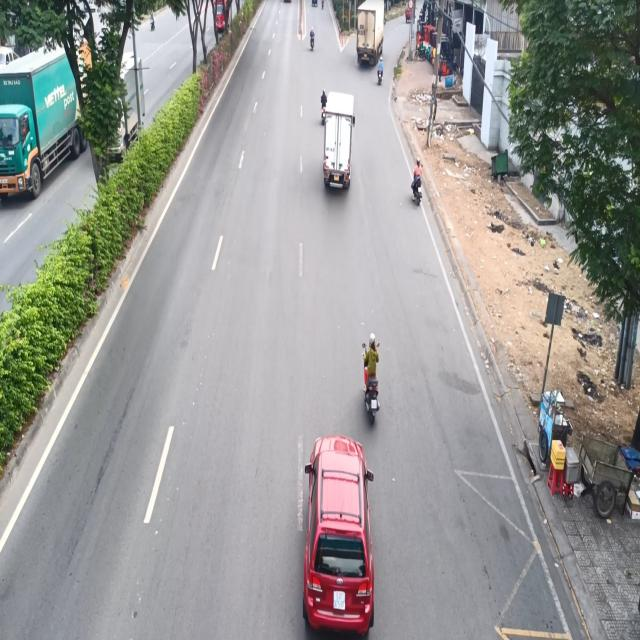car: (302, 431, 383, 639)
motor: (359, 323, 383, 430), (408, 154, 423, 211), (376, 54, 383, 82), (310, 27, 316, 55)
truck: (321, 86, 358, 195), (357, 0, 386, 62)
